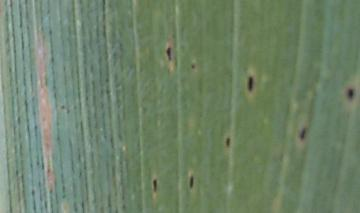tarspot: (246, 76, 254, 93), (166, 48, 173, 61), (300, 128, 307, 141), (347, 88, 355, 99), (152, 179, 158, 193), (224, 138, 232, 147), (189, 175, 194, 189), (190, 64, 197, 70)
